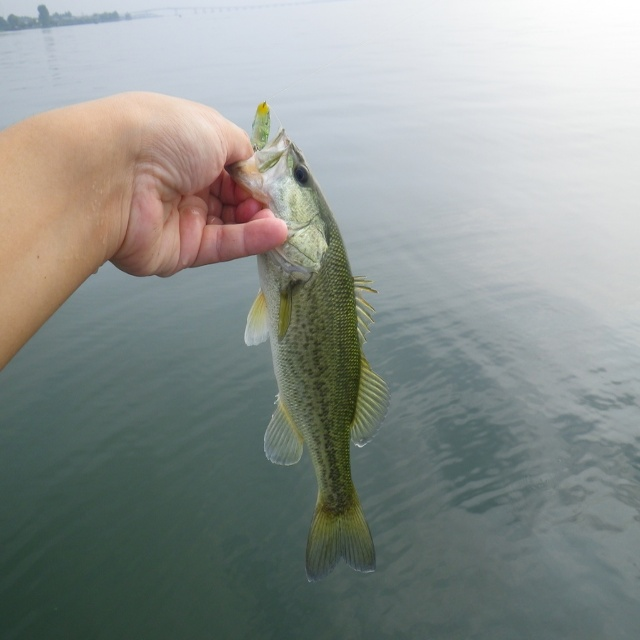Fish: (220, 79, 382, 588)
